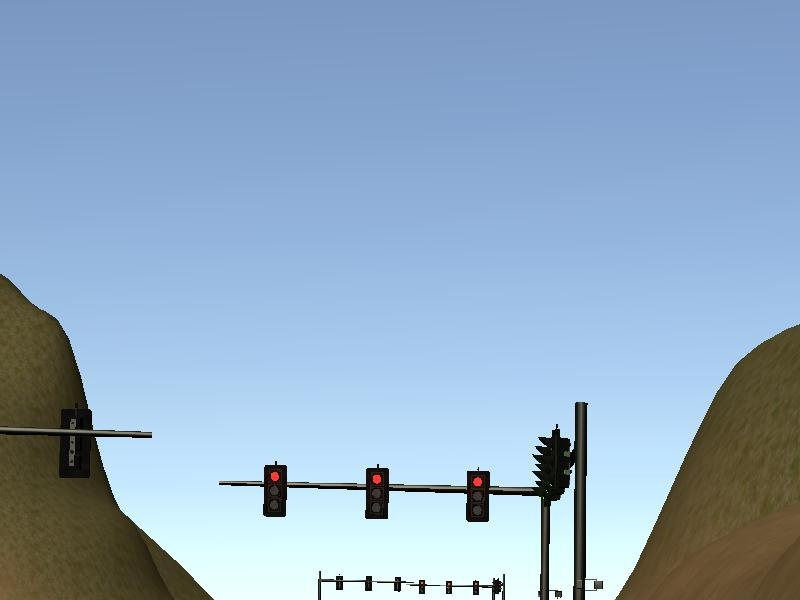red: (465, 470, 489, 522), (263, 463, 286, 516), (367, 468, 387, 518)
